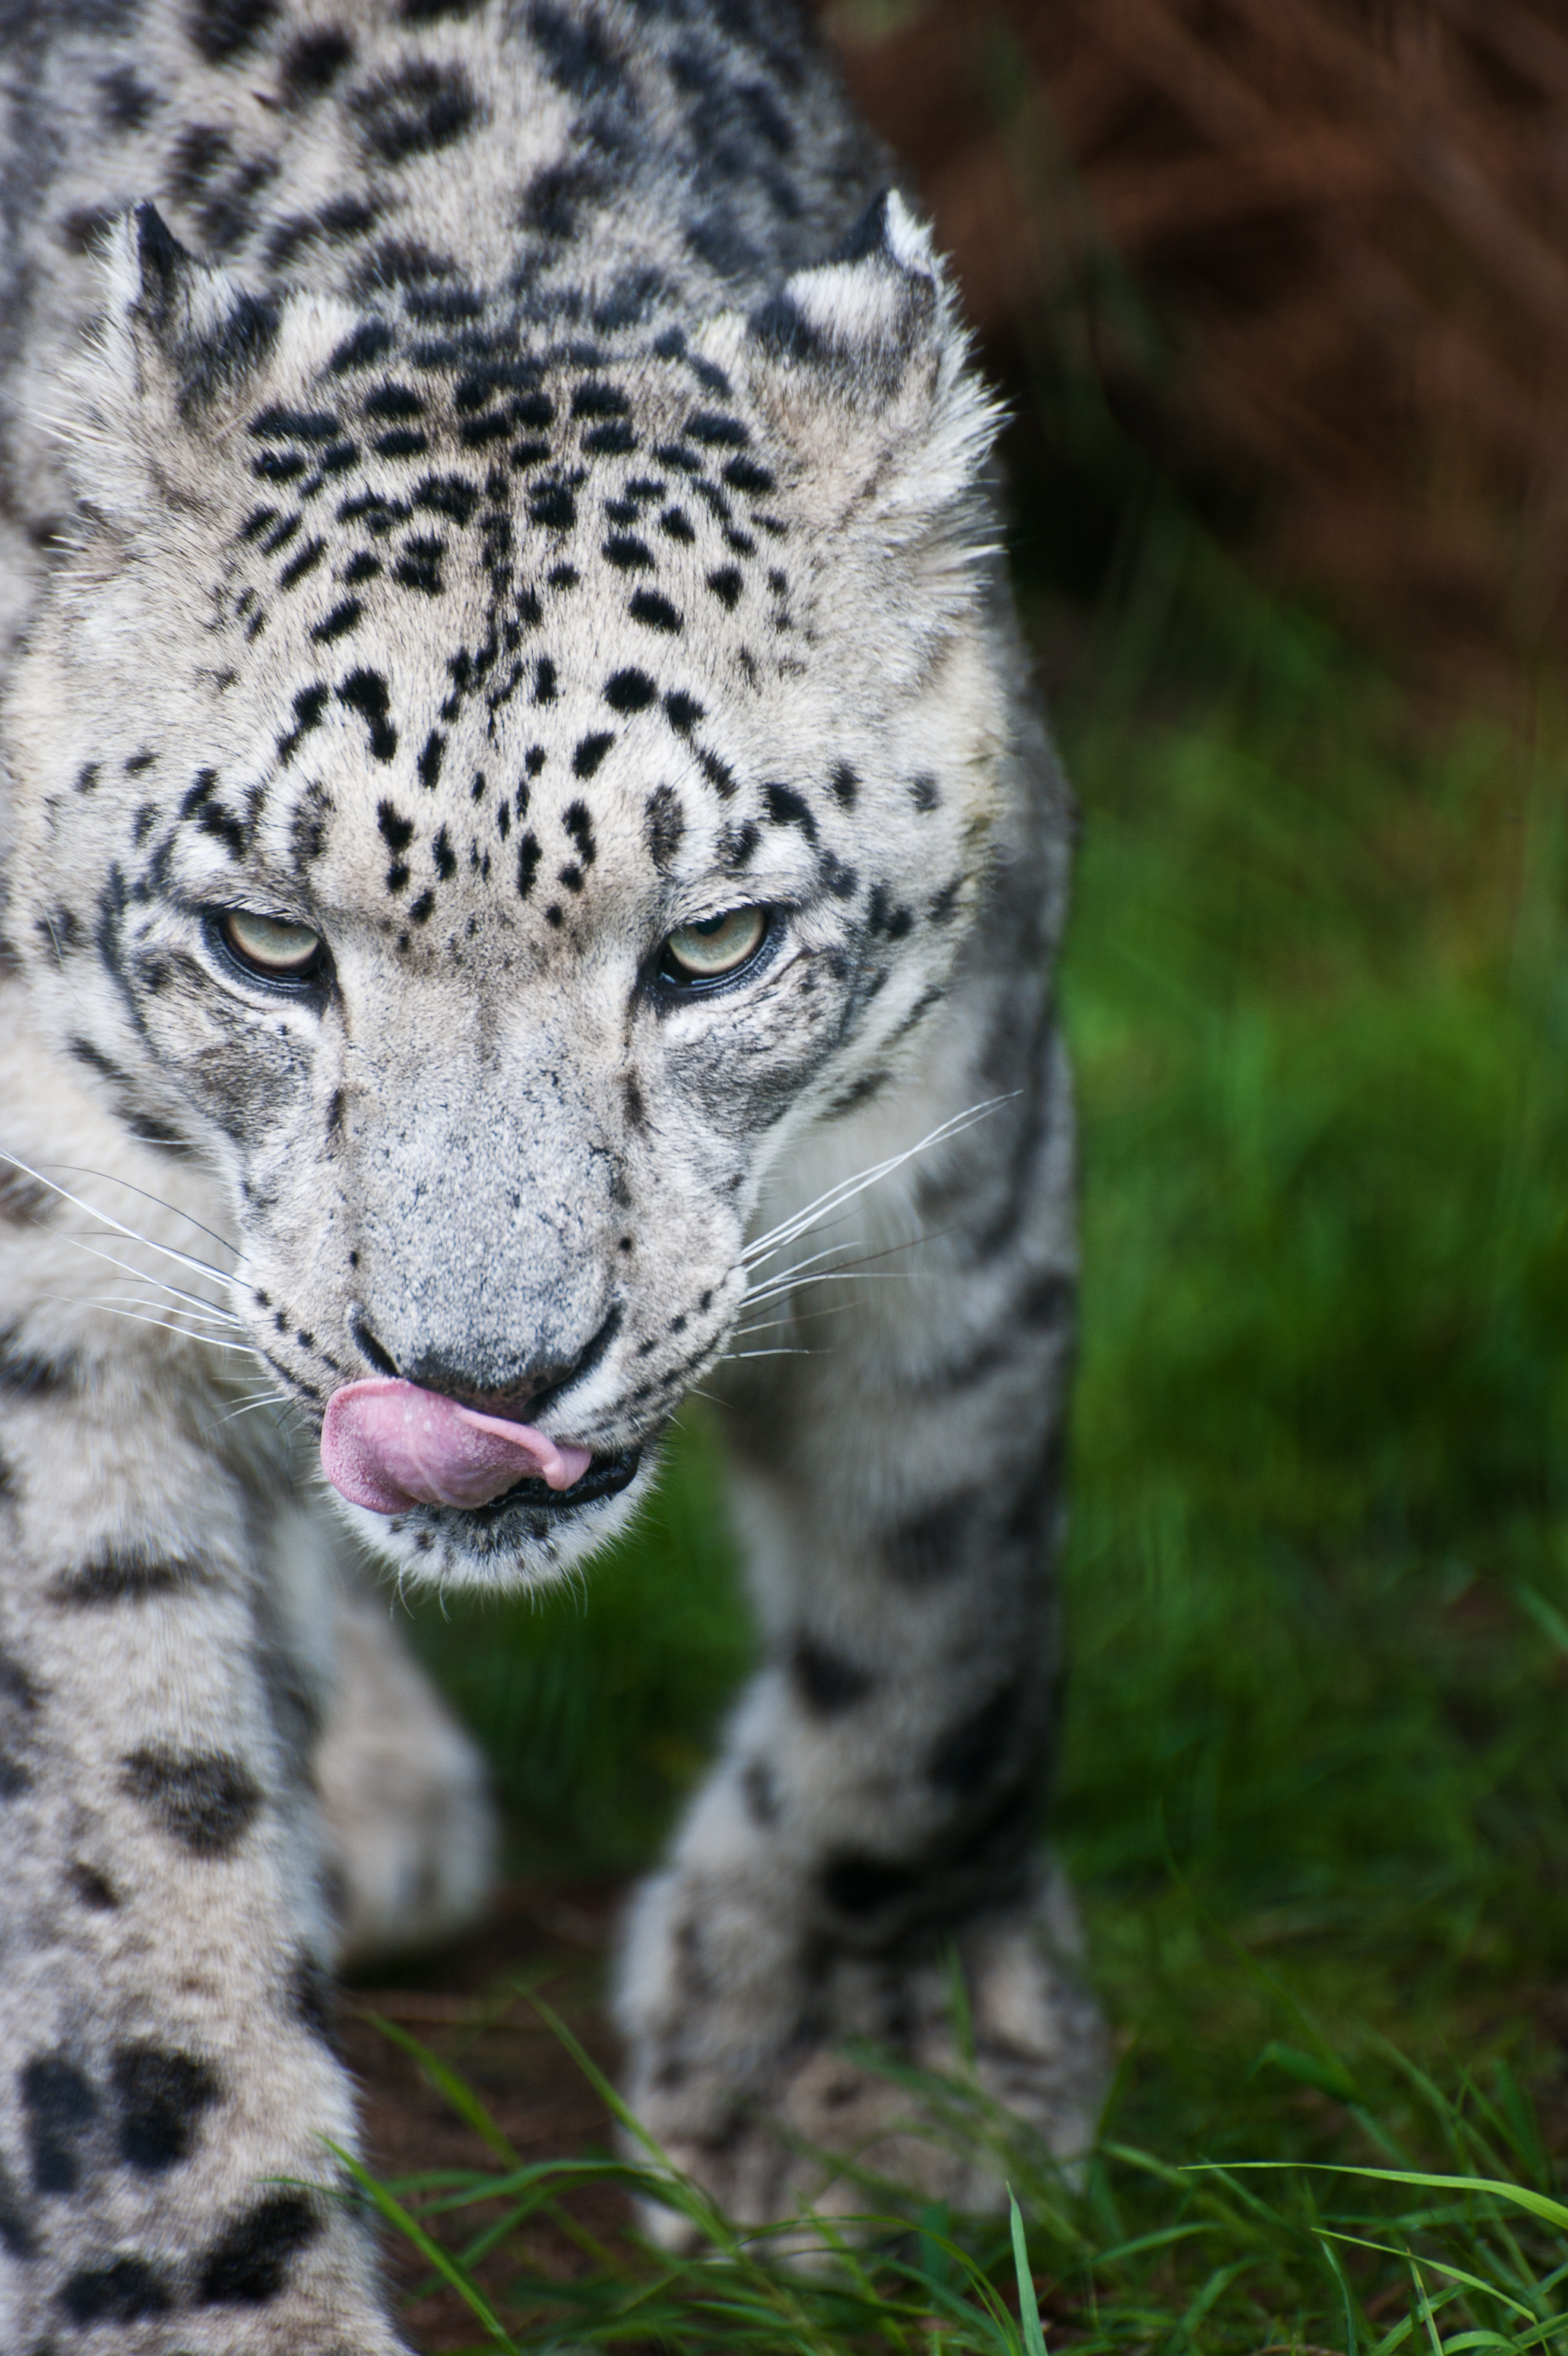tiger: (24, 35, 1108, 2151)
